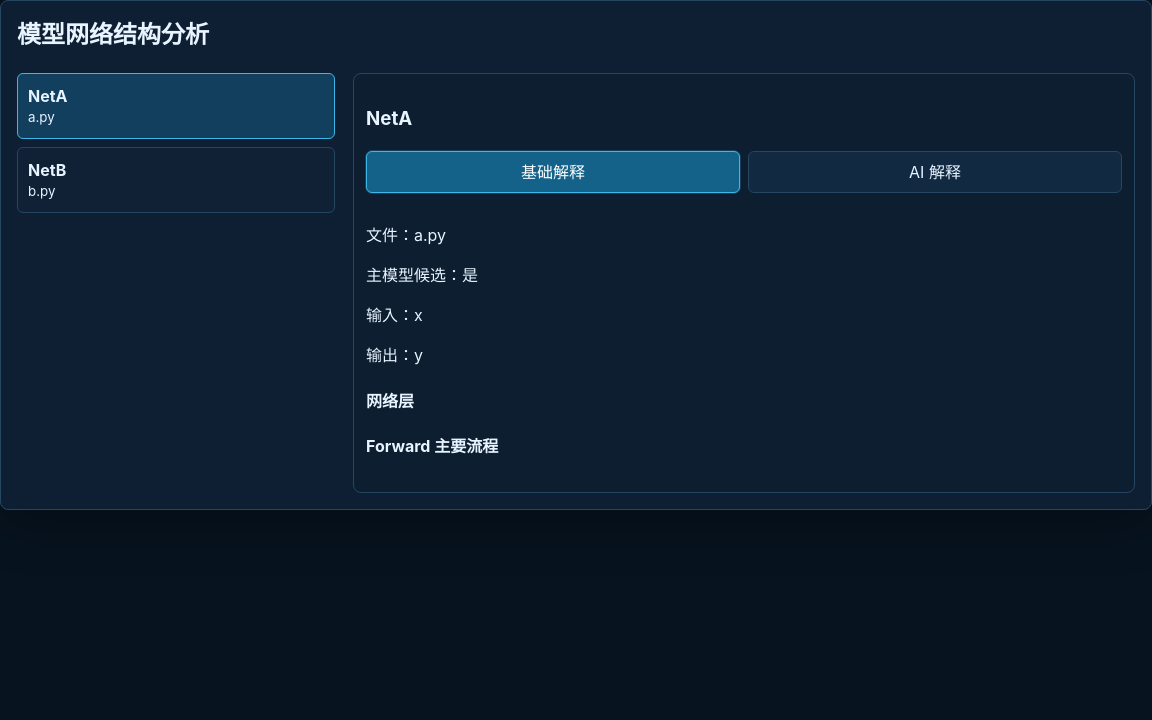
model analysis shows one selected model and separates AI explanation
This screenshot has width=1152, height=720.
Expected: the text "输入：x" is shown, [366,305,423,325]
Expected: the text "输入：image" is not shown
Click the button "NetB b.py". click: (47, 170)
box: [17,147,335,213]
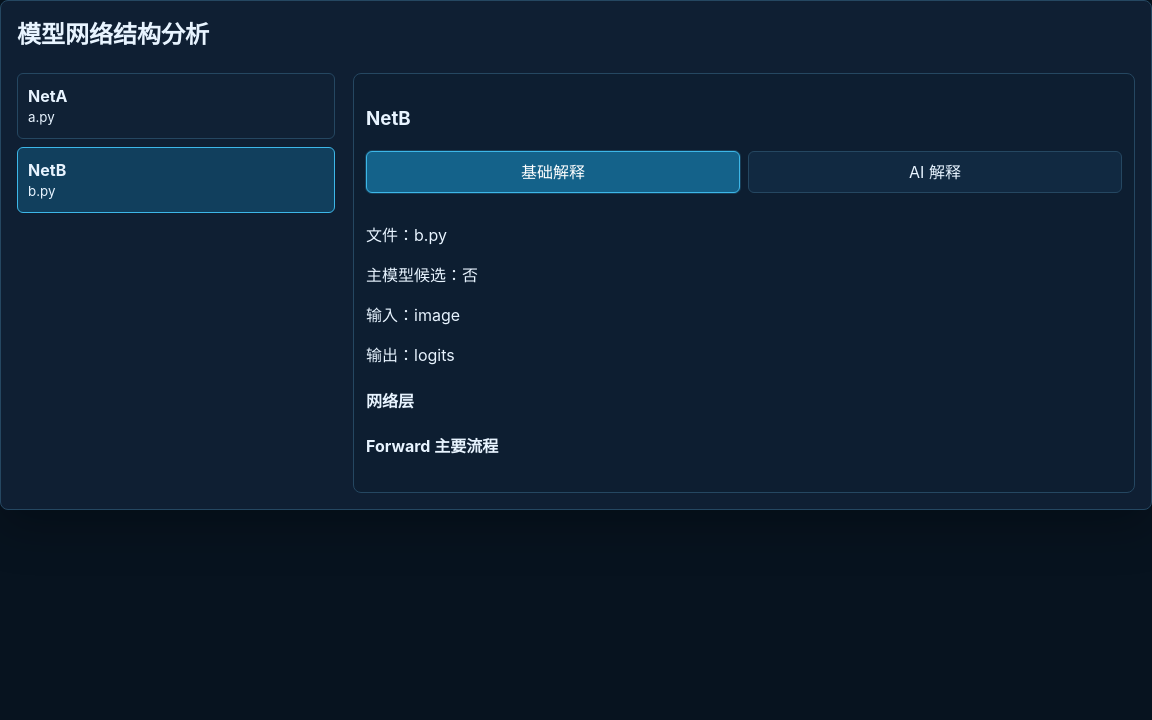
Expected: the text "NetB AI 解释" is not shown
Result: the text "输入：image" is shown at [366,305,460,325]
Click the button "AI 解释". click: (935, 172)
box: [748,151,1122,193]
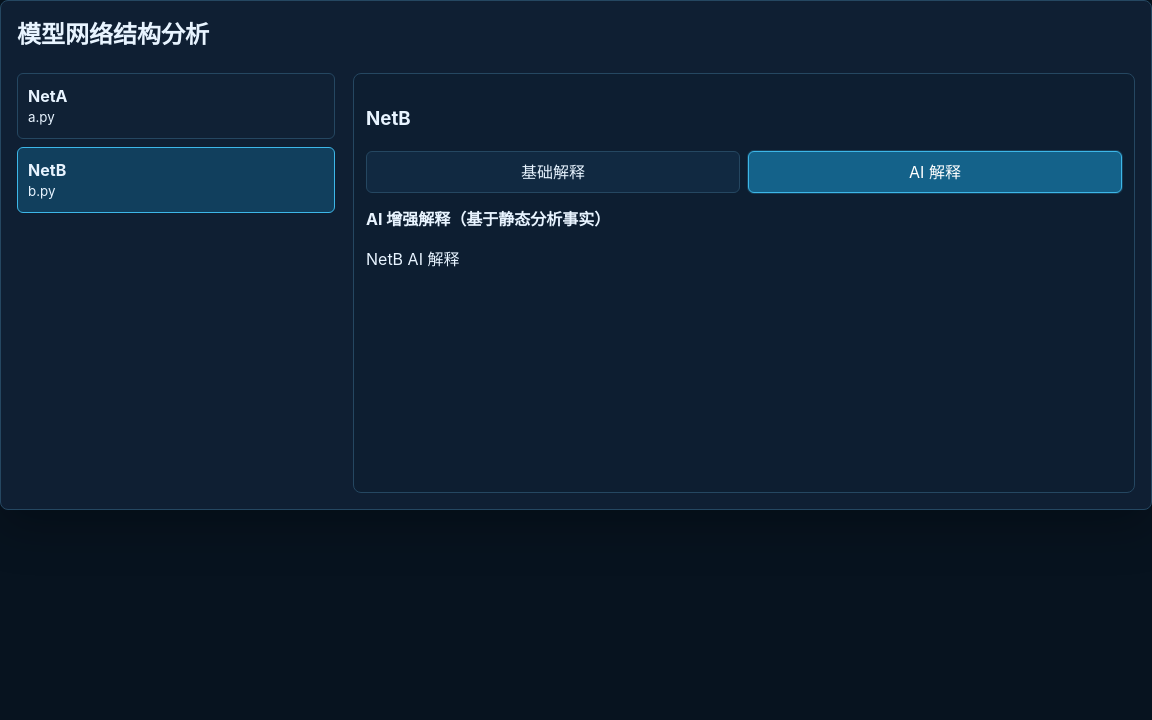
Result: the text "NetB AI 解释" is shown at [366,249,459,269]
